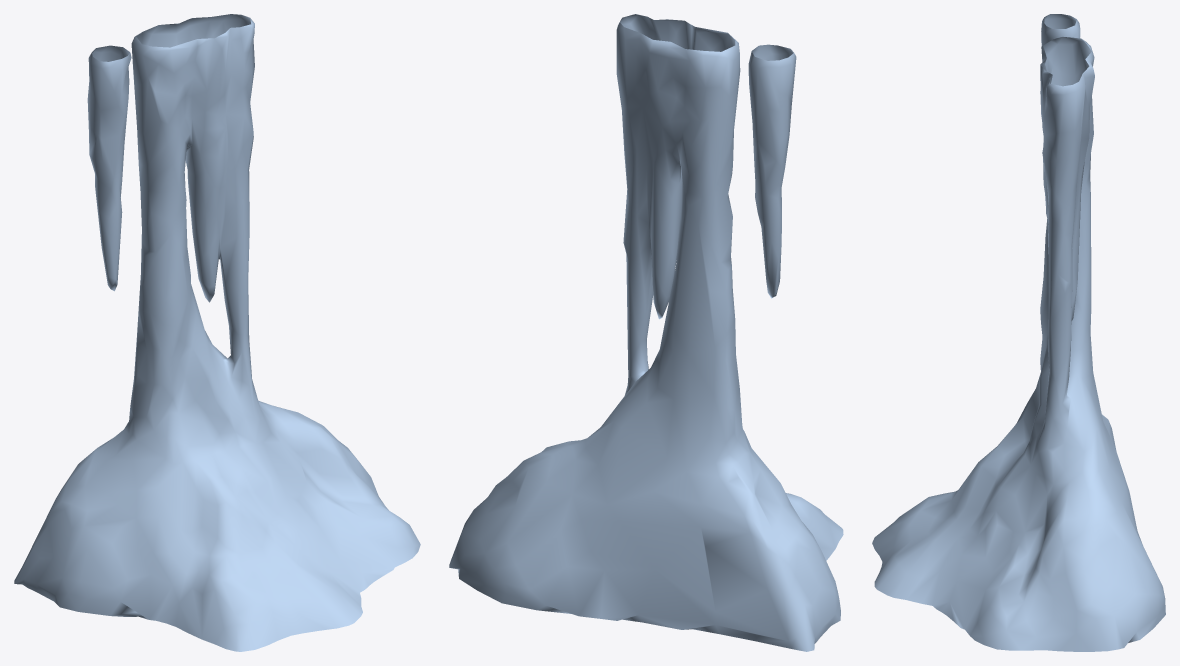
Rendered from IciclesLarge_01_B.fbx.
3 views of the same model, side by side, from view 1: azimuth 30°, elevation 25°; view 2: azimuth 150°, elevation 25°; view 3: azimuth 270°, elevation 25° (orthographic). The views are drawn at different scales.
Parts seen in each view (by area): view 1: IciclesLarge_01_B.001; view 2: IciclesLarge_01_B.001; view 3: IciclesLarge_01_B.001.
Part boxes in pixels (left/top/right/bottom): IciclesLarge_01_B.001: left=14, top=14, right=420, bottom=651; IciclesLarge_01_B.001: left=449, top=14, right=843, bottom=651; IciclesLarge_01_B.001: left=872, top=14, right=1165, bottom=651.
Size of the model in its own units: 1.76 by 2.56 by 1.36.
